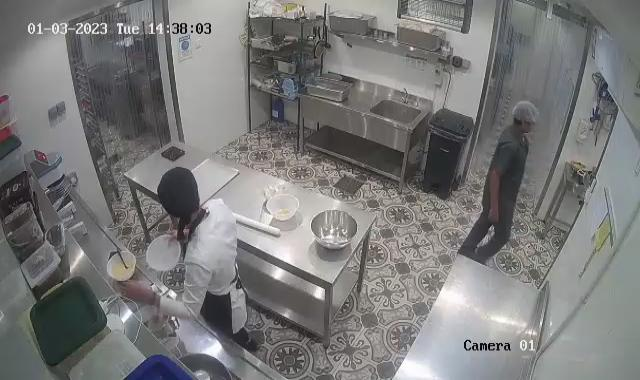hairnet: (511, 96, 539, 130)
no_hairnet: (157, 166, 201, 222)
